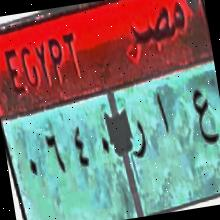0: (96, 128, 115, 167), (24, 148, 44, 184)
4: (69, 118, 91, 172)
6: (40, 125, 69, 180)
ain: (184, 82, 220, 153)
alif: (150, 87, 175, 141)
raa: (126, 112, 152, 167)
